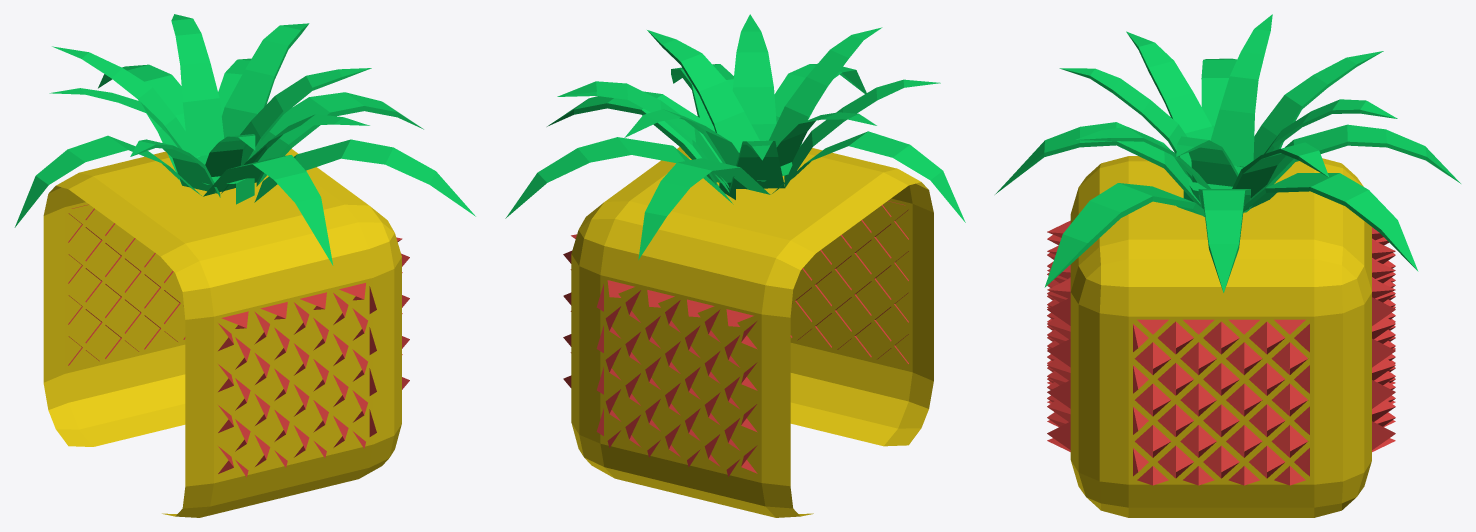
The model's file is pineapplevDecimatedv2.fbx.
3 renders of one model, left to right at view 1: azimuth 30°, elevation 25°; view 2: azimuth 150°, elevation 25°; view 3: azimuth 270°, elevation 25°, orthographic.
Parts seen in each view (by area): view 1: Cube.001, Cube.006, Cube.003, Cube.002, Cube, Cube.005, Cylinder; view 2: Cube.001, Cube.002, Cube.003, Cube.006, Cube, Cube.005; view 3: Cube.001, Cube, Cube.006, Cube.003, Cube.002, Cube.005.
Boxes of the visible parts, x1,y1,x2,y2 form: Cube.001: (43,148,401,517); Cube.006: (14,64,423,265); Cube.003: (49,14,371,176); Cube.002: (52,23,369,197); Cube: (68,204,409,477); Cube.005: (218,58,475,216); Cylinder: (196,155,254,204); Cube.001: (571,147,933,517); Cube.002: (557,14,940,192); Cube.003: (624,27,882,166); Cube.006: (547,63,965,259); Cube: (563,201,908,476); Cube.005: (505,64,733,218); Cube.001: (1070,156,1371,517); Cube: (1047,220,1395,485); Cube.006: (995,58,1460,292); Cube.003: (1059,14,1397,186); Cube.002: (1076,31,1383,197); Cube.005: (1044,173,1418,287).
Size of the model in its own units: 319 by 284 by 310.
